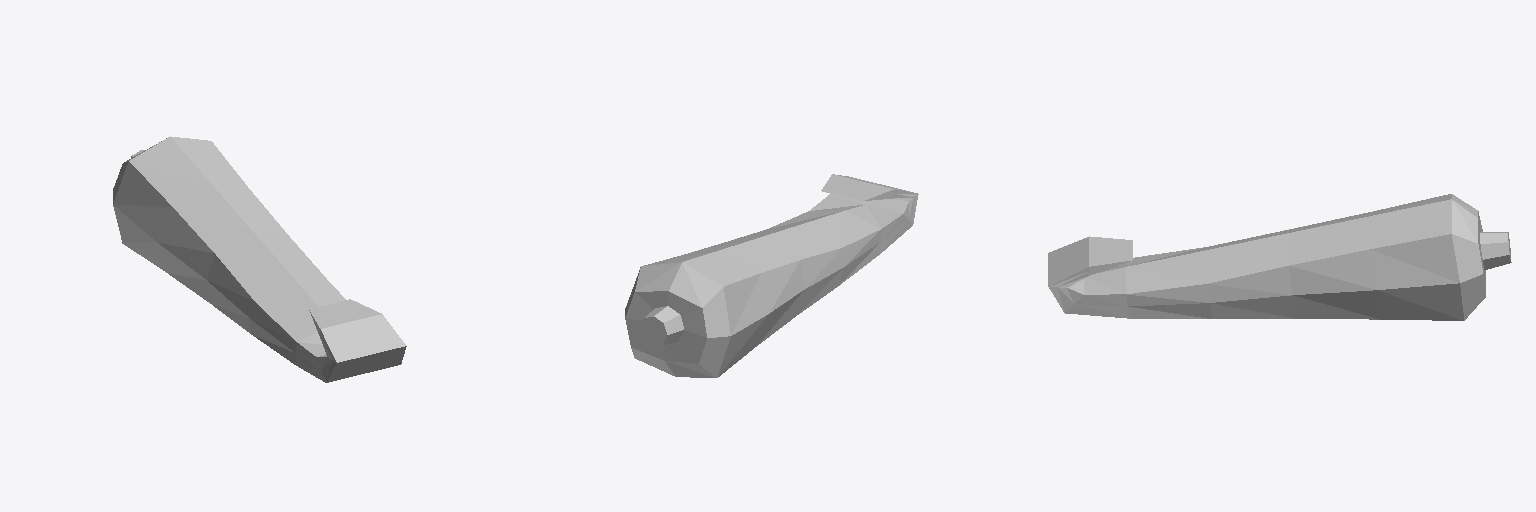
The model's file is toothpaste.obj.
3 renders of one model, left to right at view 1: azimuth 30°, elevation 25°; view 2: azimuth 150°, elevation 25°; view 3: azimuth 270°, elevation 25°, orthographic.
Visible parts, largest first — view 1: toothpaste; view 2: toothpaste; view 3: toothpaste.
Boxes of the visible parts, box(x1,y1,x2,y2) form: toothpaste: box(113, 136, 406, 382); toothpaste: box(625, 174, 918, 377); toothpaste: box(1048, 194, 1511, 320).
Size of the model in its own units: 0.2327 by 0.2374 by 0.8775.